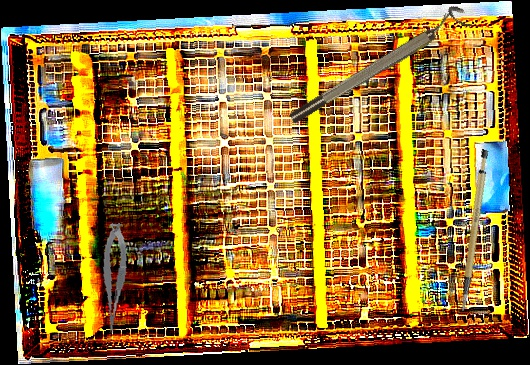Fixation Ring: (282, 2, 473, 127)
Micro Scissor: (92, 221, 134, 335)
Scalpel Handle: (435, 148, 510, 312)
